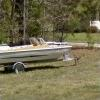Boat: (2, 29, 78, 72)
